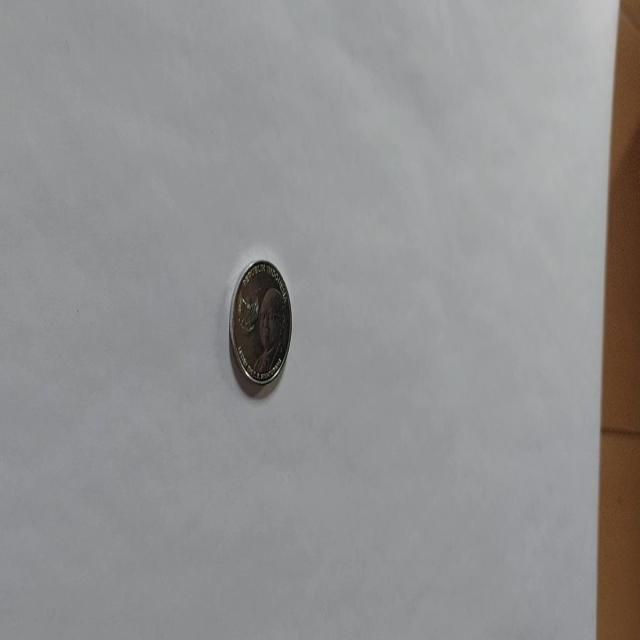lima ratus rupiah: (228, 258, 292, 390)
